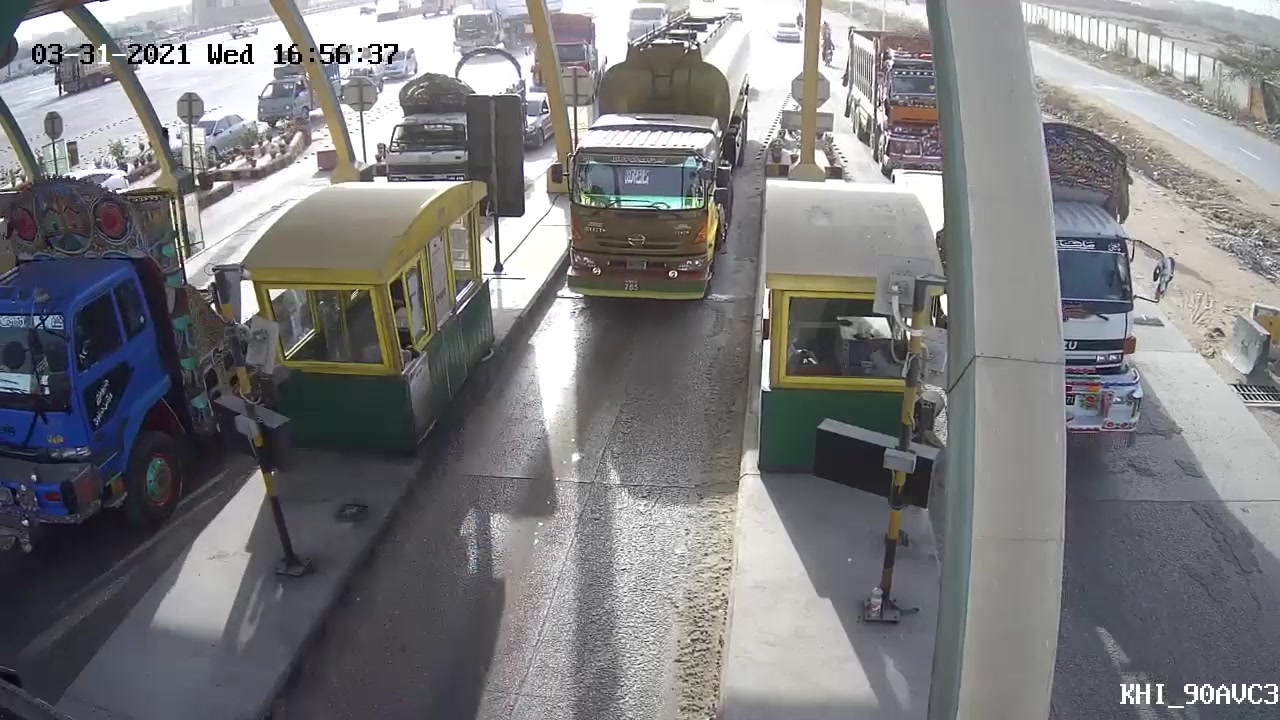F6: (550, 5, 763, 321)
